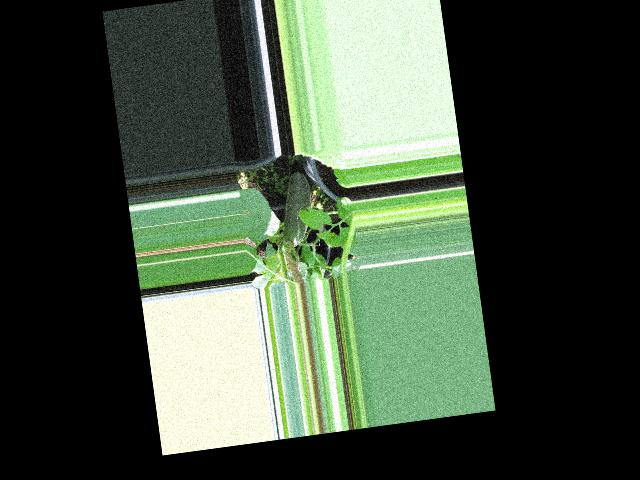cucumber: (275, 171, 317, 247)
